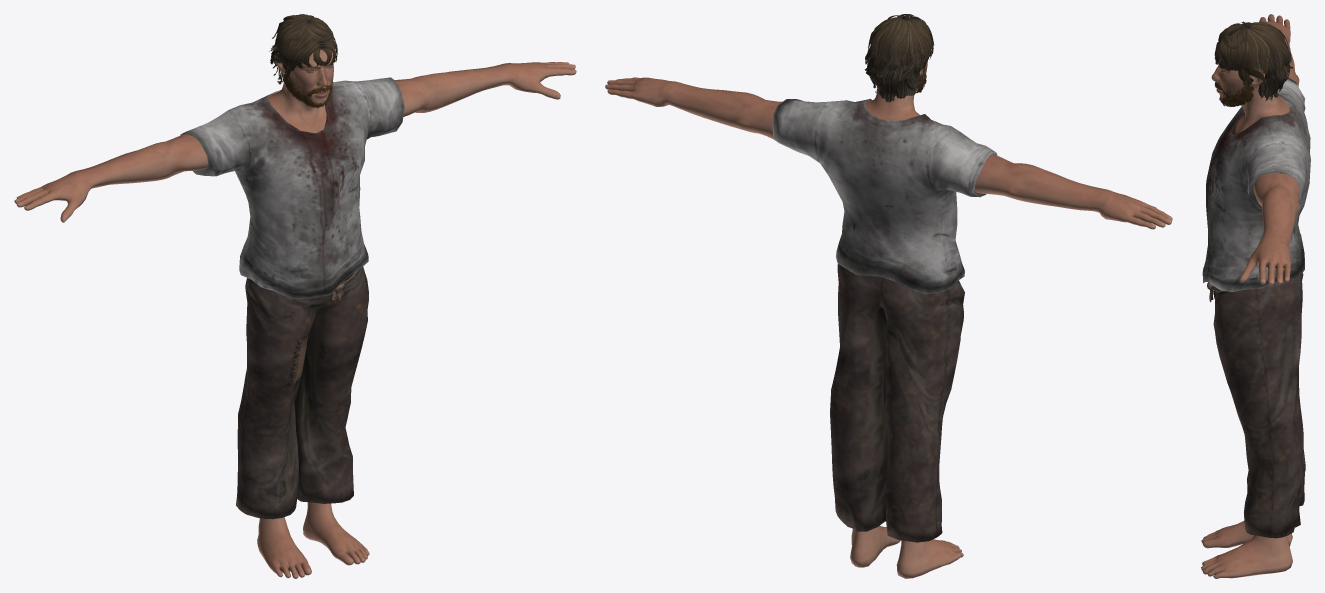
File: Prisoner.obj
3 views of the same model, side by side, from view 1: azimuth 30°, elevation 25°; view 2: azimuth 150°, elevation 25°; view 3: azimuth 270°, elevation 25° (orthographic).
Parts seen in each view (by area): view 1: Tops, Bottoms, Body, Hair; view 2: Bottoms, Tops, Body, Hair; view 3: Bottoms, Tops, Body, Hair, Beards.
Part boxes in pixels (x1,y1,x2,y2): Tops: (180,77,404,298); Bottoms: (236,266,368,519); Body: (14,43,576,578); Hair: (269,14,337,84); Bottoms: (830,264,964,542); Tops: (772,98,997,294); Body: (605,60,1172,578); Hair: (865,14,934,102); Bottoms: (1207,272,1305,538); Tops: (1202,76,1310,291); Body: (1201,14,1299,578); Hair: (1214,21,1293,101); Beards: (1219,81,1254,106).
Size of the model in its own units: 195 by 179 by 33.36.
